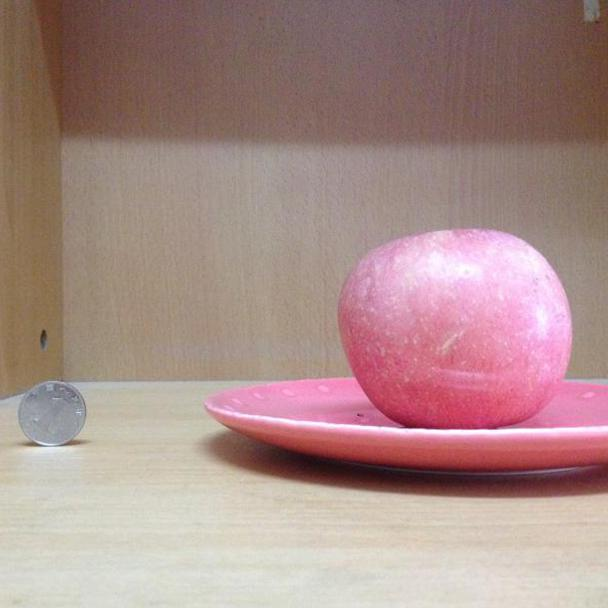apple: (336, 226, 579, 424)
